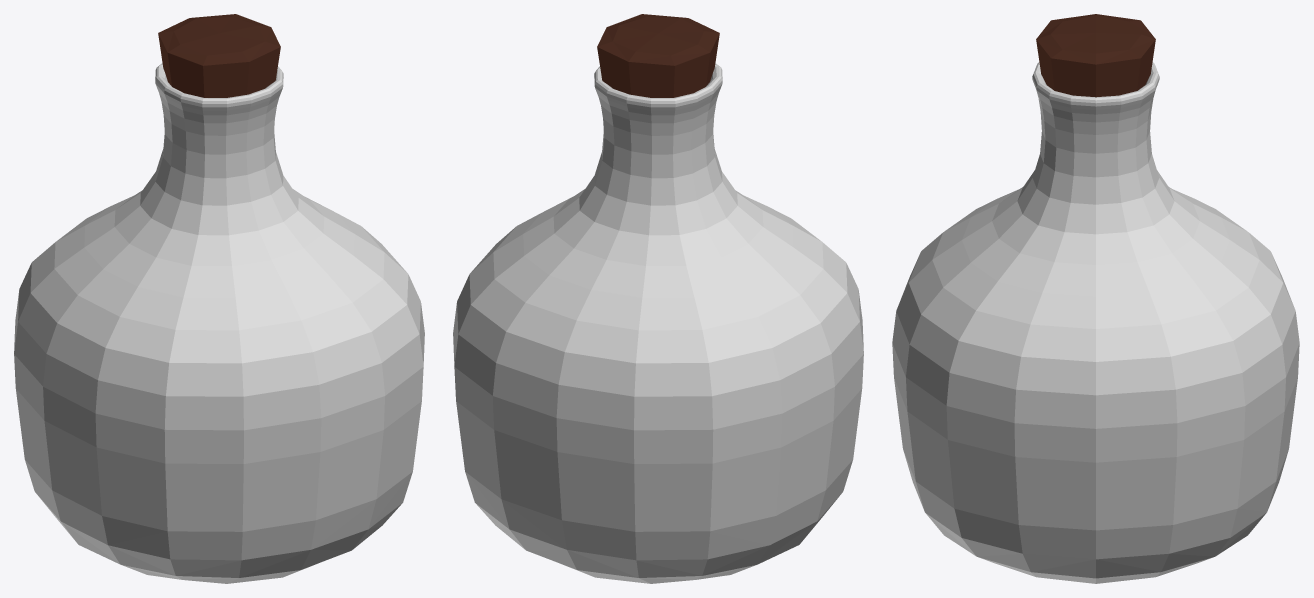
File: potion2_filled.glb
3 renders of one model, left to right at view 1: azimuth 30°, elevation 25°; view 2: azimuth 150°, elevation 25°; view 3: azimuth 270°, elevation 25°, orthographic.
Visible parts, largest first — view 1: Potion2_Filled; view 2: Potion2_Filled; view 3: Potion2_Filled.
Part boxes in pixels (<box>): Potion2_Filled: <box>14,14,424,583</box>; Potion2_Filled: <box>453,14,863,583</box>; Potion2_Filled: <box>892,14,1299,583</box>.
Size of the model in its own units: 87.68 by 122 by 87.68.
